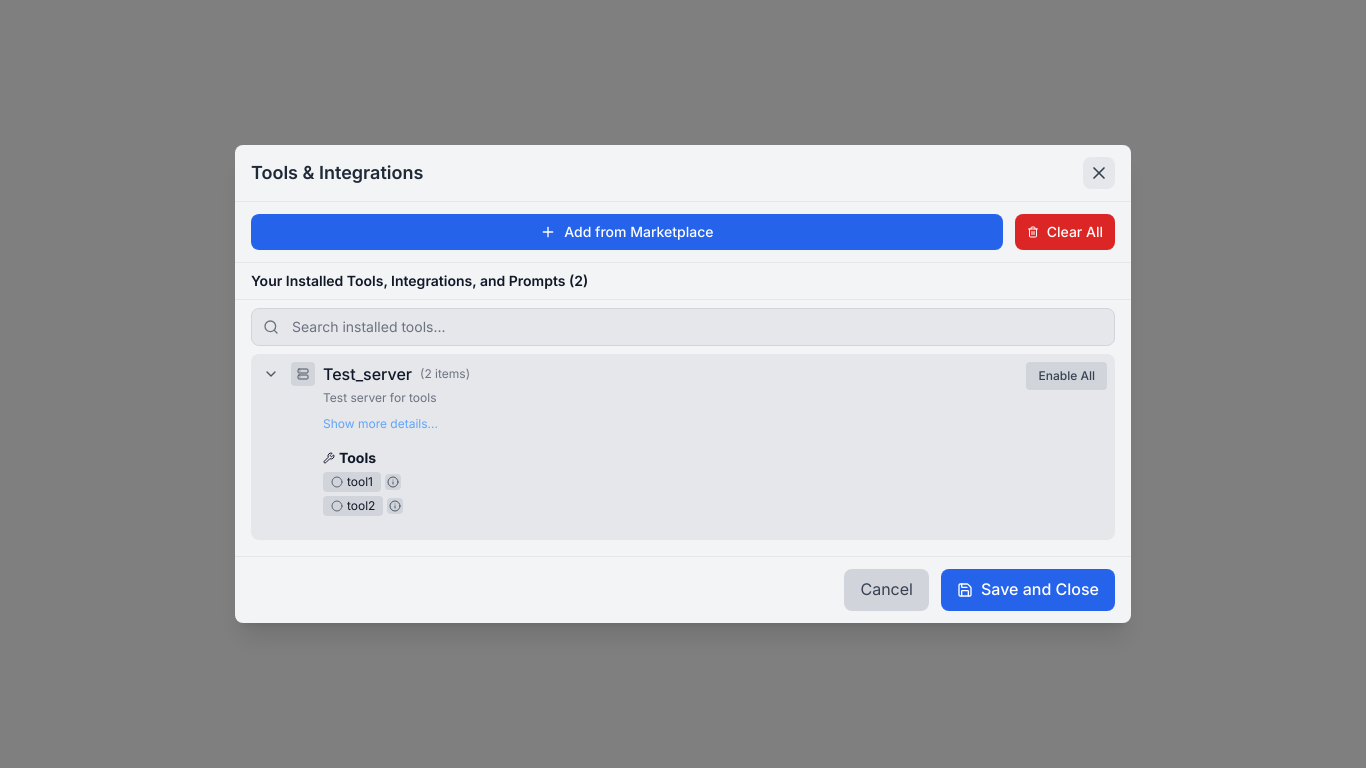
Scenario: ToolsPanel - Unsaved Changes Dialog › should show unsaved changes dialog when clicking outside with unsaved changes
Note: Make a change to create unsaved changes
What coordinates should you click on to do the following:
click the button "tool1"
I would click on:
 (352, 482)
Its box is 323,472 -> 381,492.
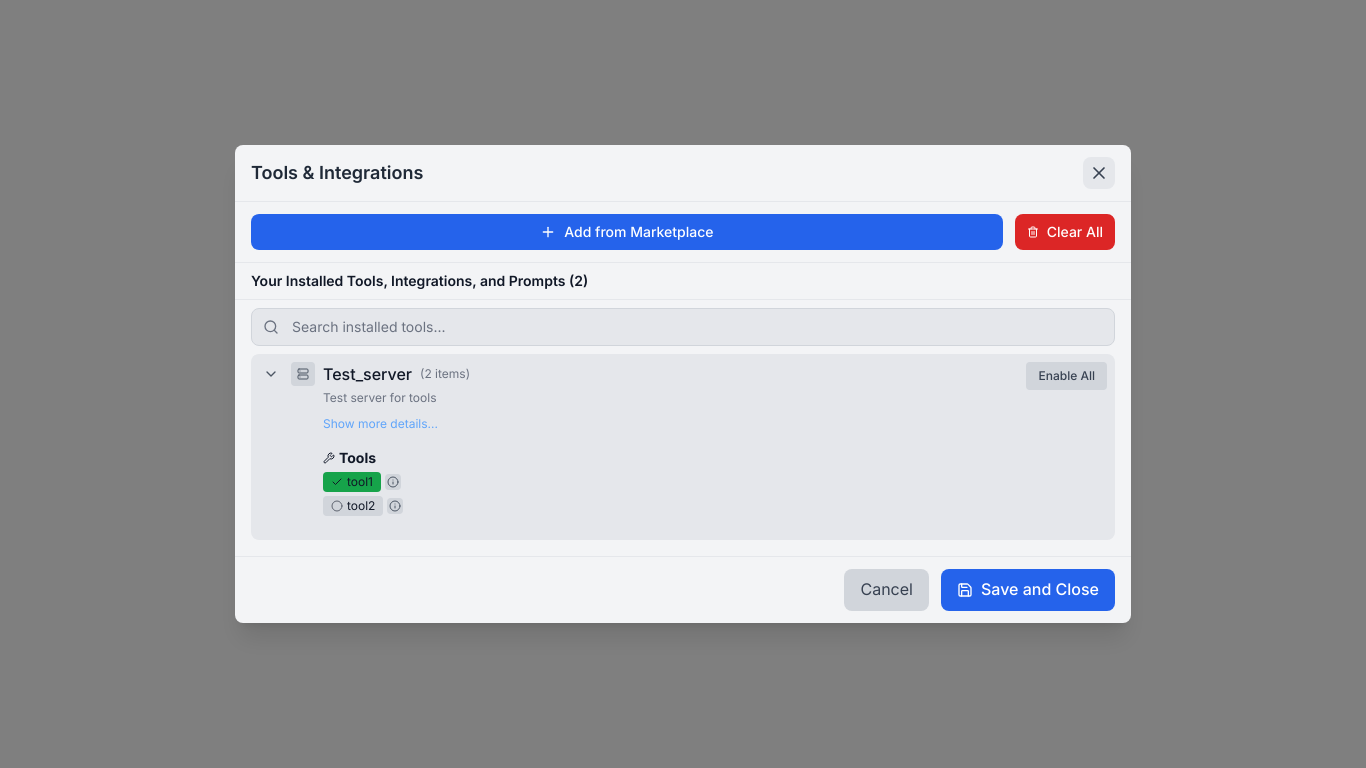
Note: Click outside the panel (on the overlay)
What coordinates should you click on to do the following:
click the text "Tools & Integrations"
I would click on:
 (82, 384)
Its box is 0,0 -> 1365,767.
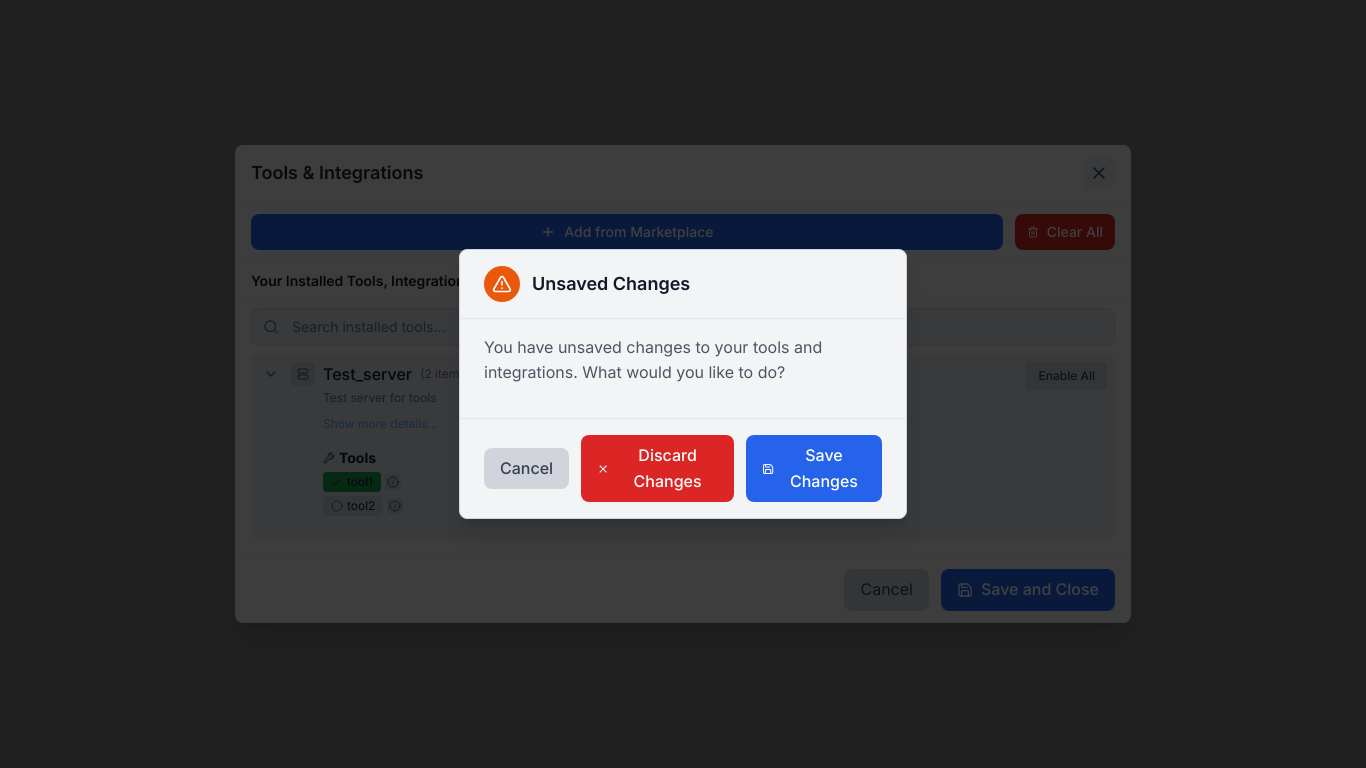
Expected: the heading "Unsaved Changes" is shown, 532,270 -> 690,298
Expected: the text "You have unsaved changes to your tools and integrations. What would you like to do?" is shown, 484,337 -> 822,382
